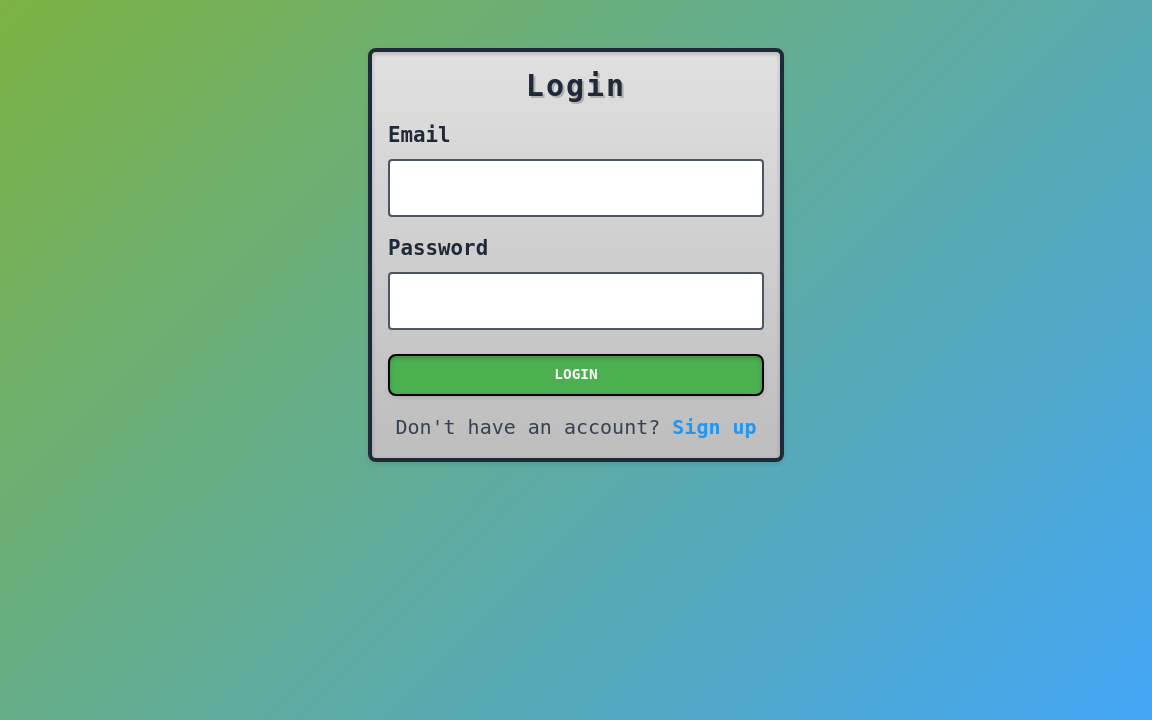
Scenario: Login › shows error message on login failure
Type "test@example.com" into the field labelled "Email" at [576, 188], box [388,159,764,217]
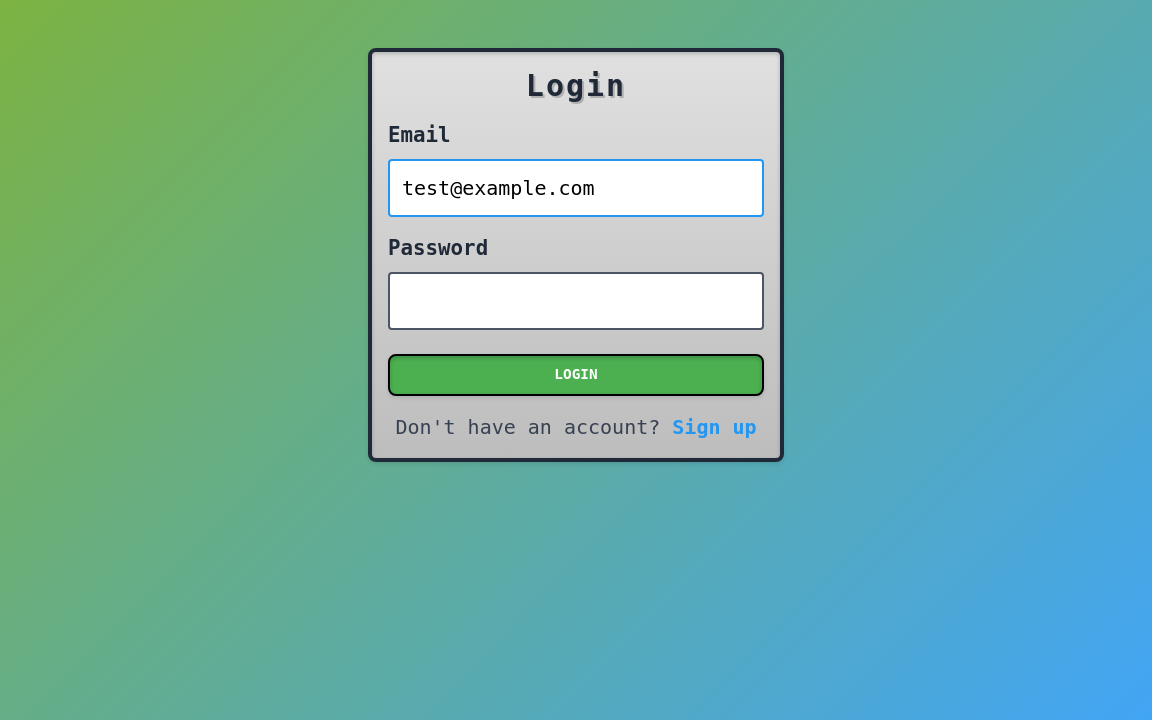
Type "wrongpassword" into the password field labelled "Password" at [576, 301], box [388,272,764,330]
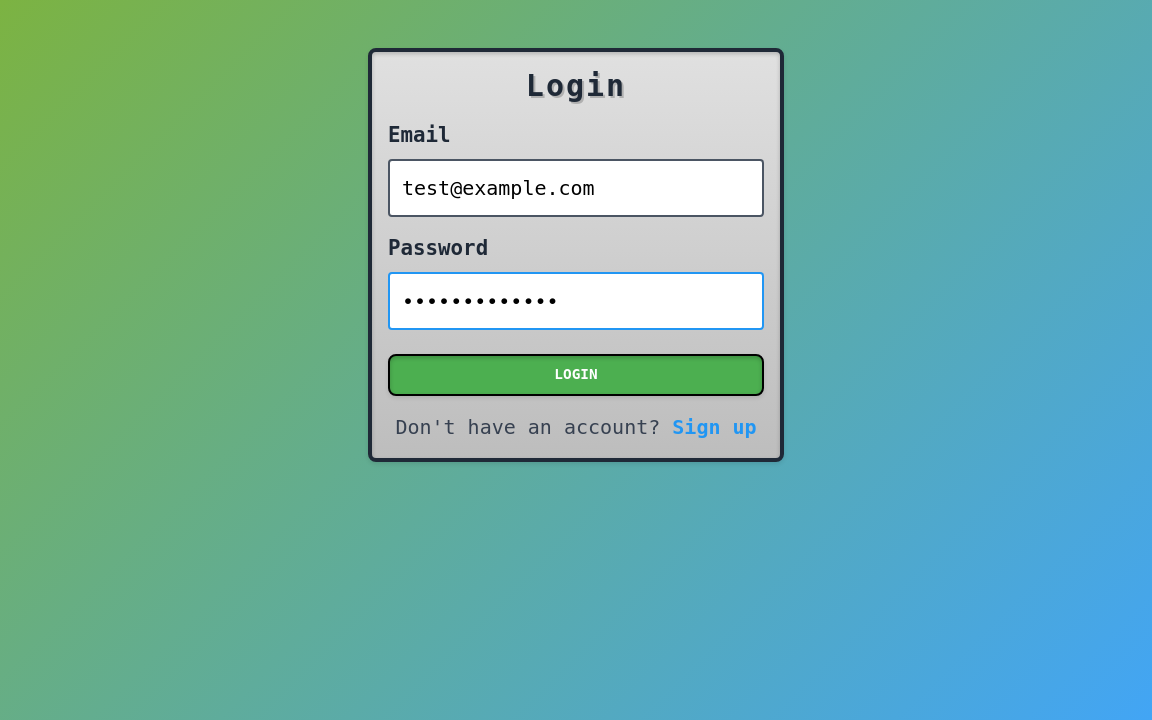
Click the button "Login" at [576, 375], box [388,354,764,396]
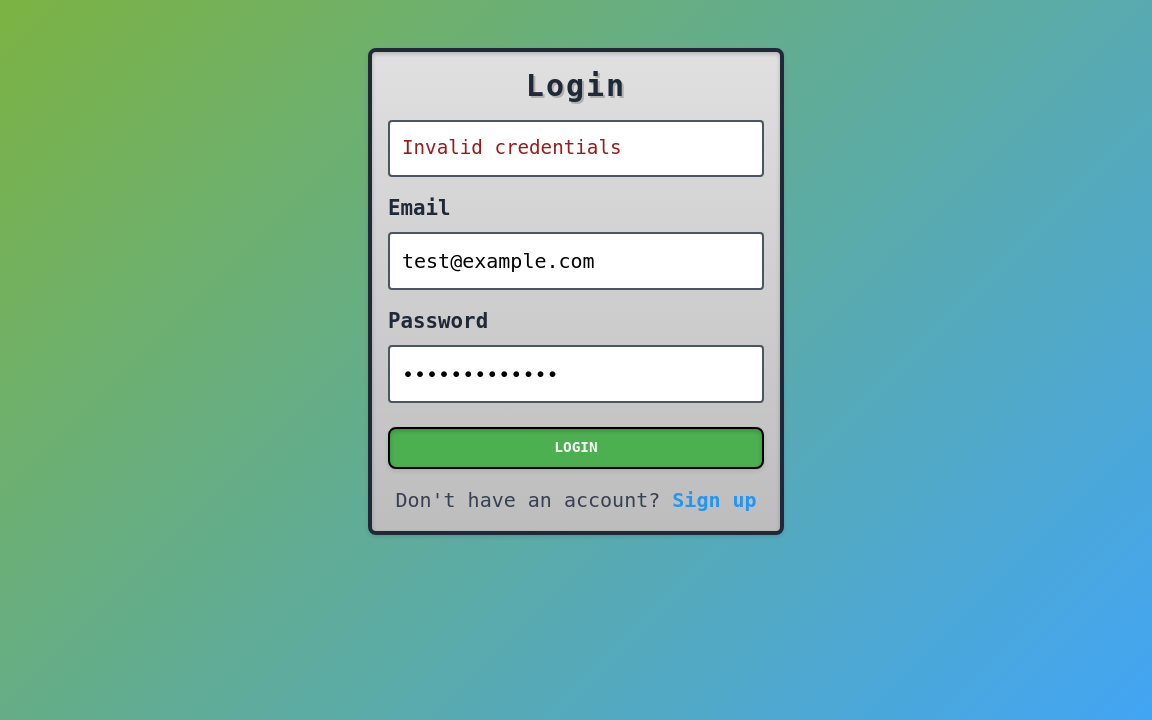
Check: the message "Invalid credentials" is shown, box [388,120,764,177]
